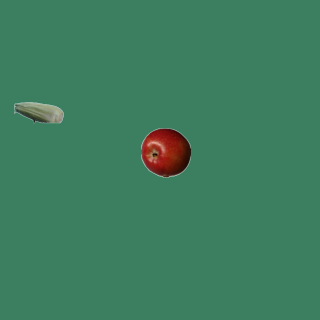Apple Braeburn: (140, 127, 190, 177)
Corn Husk: (13, 87, 63, 137)
